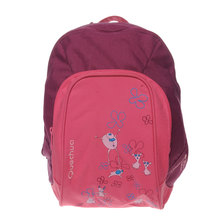bag: (39, 14, 191, 209)
